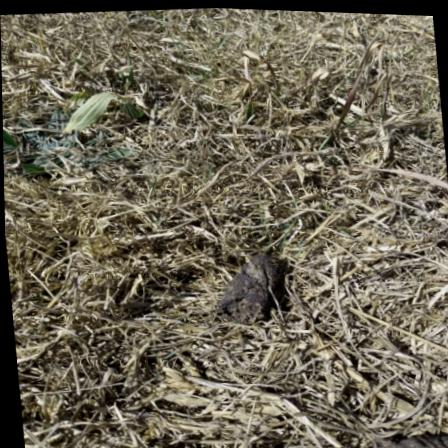dog-poop: (218, 242, 289, 326)
